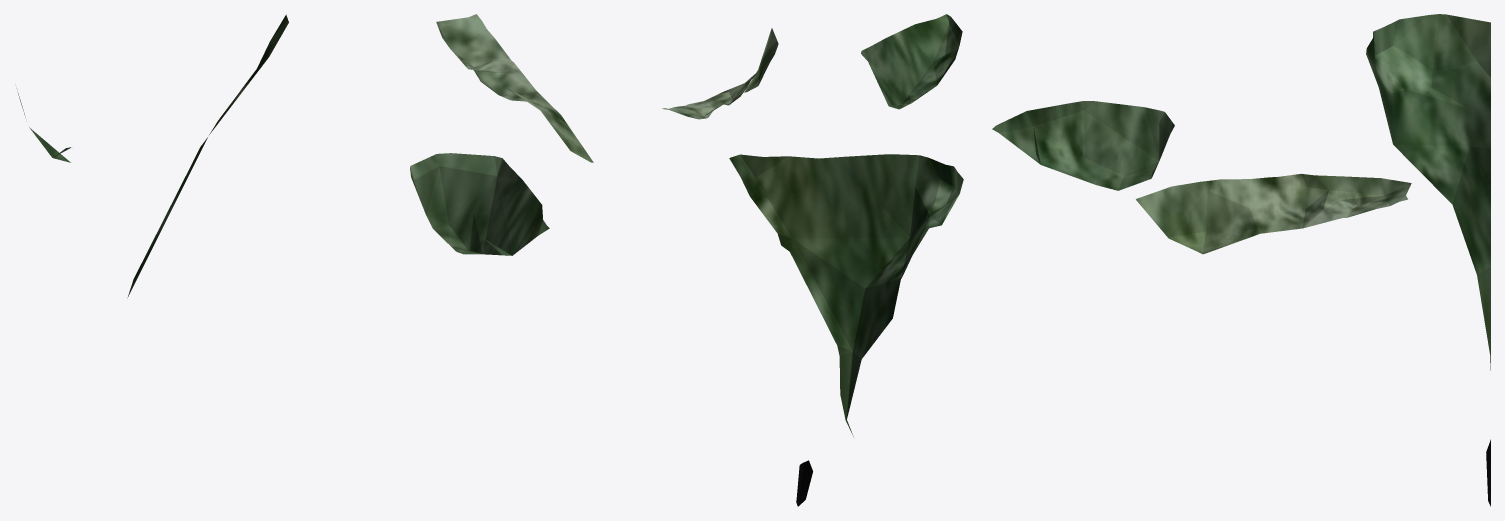
3 views of the same model, side by side, from view 1: azimuth 30°, elevation 25°; view 2: azimuth 150°, elevation 25°; view 3: azimuth 270°, elevation 25° (orthographic). The views are drawn at different scales.
Bounding box in the file's own units: 1.99 × 2.05 × 2.26.
1 material, 1 textured.
